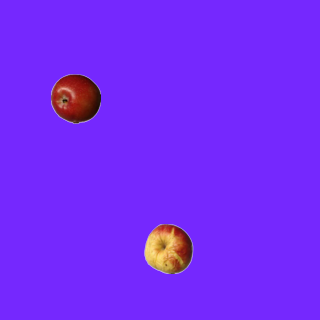Apple Braeburn: (50, 73, 100, 123)
Apple Red Yellow 1: (143, 223, 193, 273)
